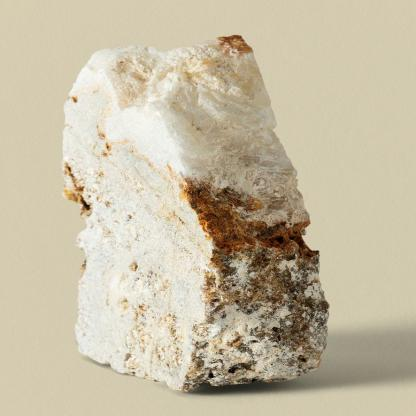Metamorphic_Marble: (51, 26, 319, 388)
